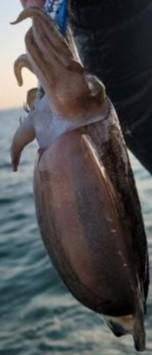Cephalopod: (9, 5, 148, 352)
